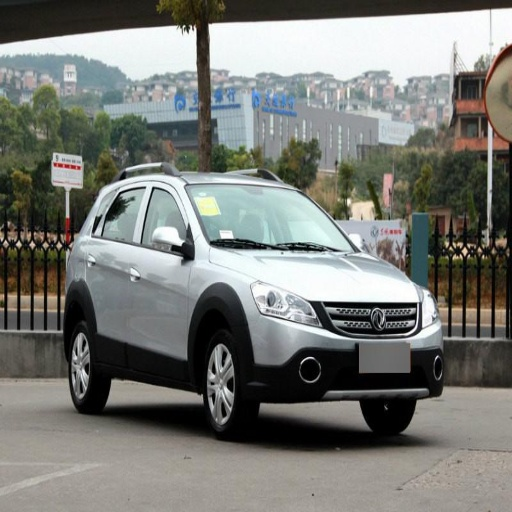front_bumper: (245, 301, 444, 400)
front_right_door: (128, 182, 193, 373)
front_right_light: (253, 281, 323, 326)
